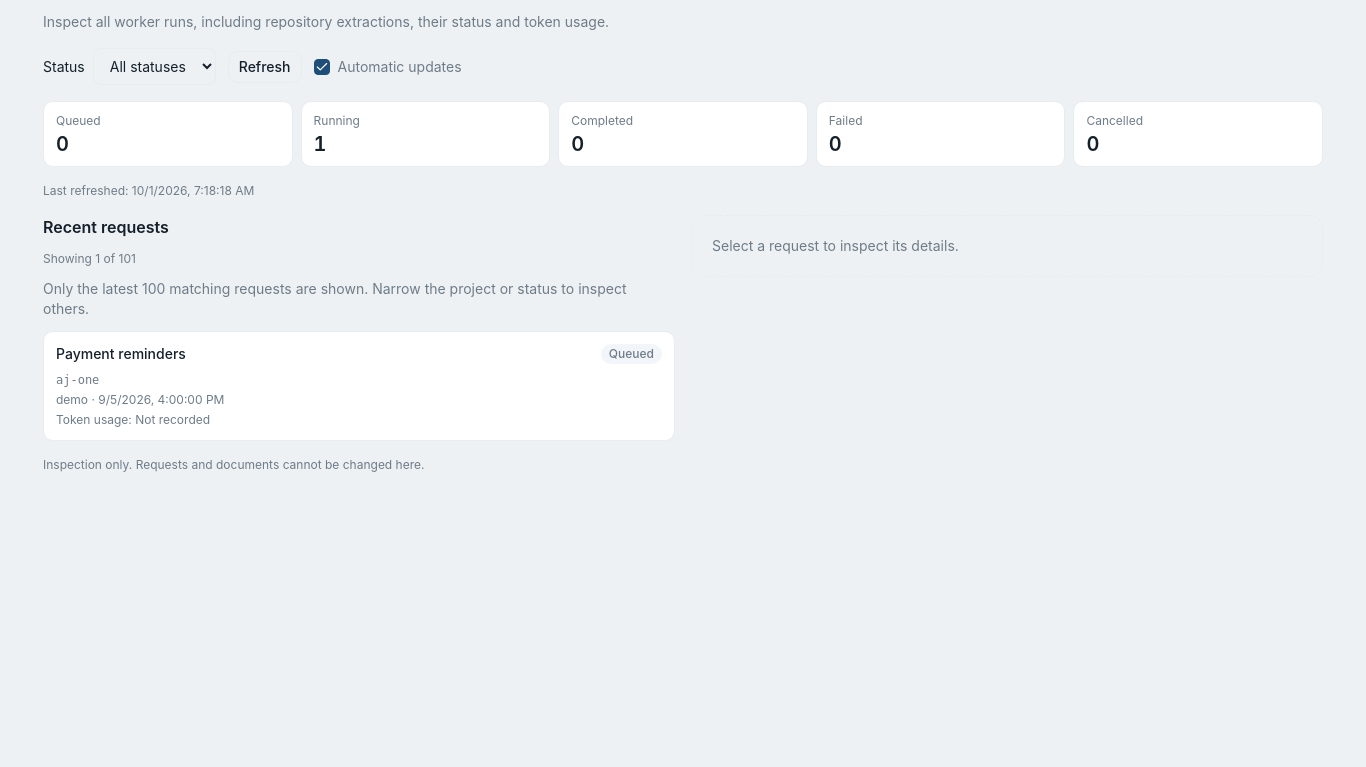
Test: Agent queue inspector › reports truncation and explains a queued request bound to a worker
expect the text "Only the latest 100" is shown: met, box [43,280,626,317]
Click the button "Payment reminders".
click(121, 354)  # box [43,331,675,441]
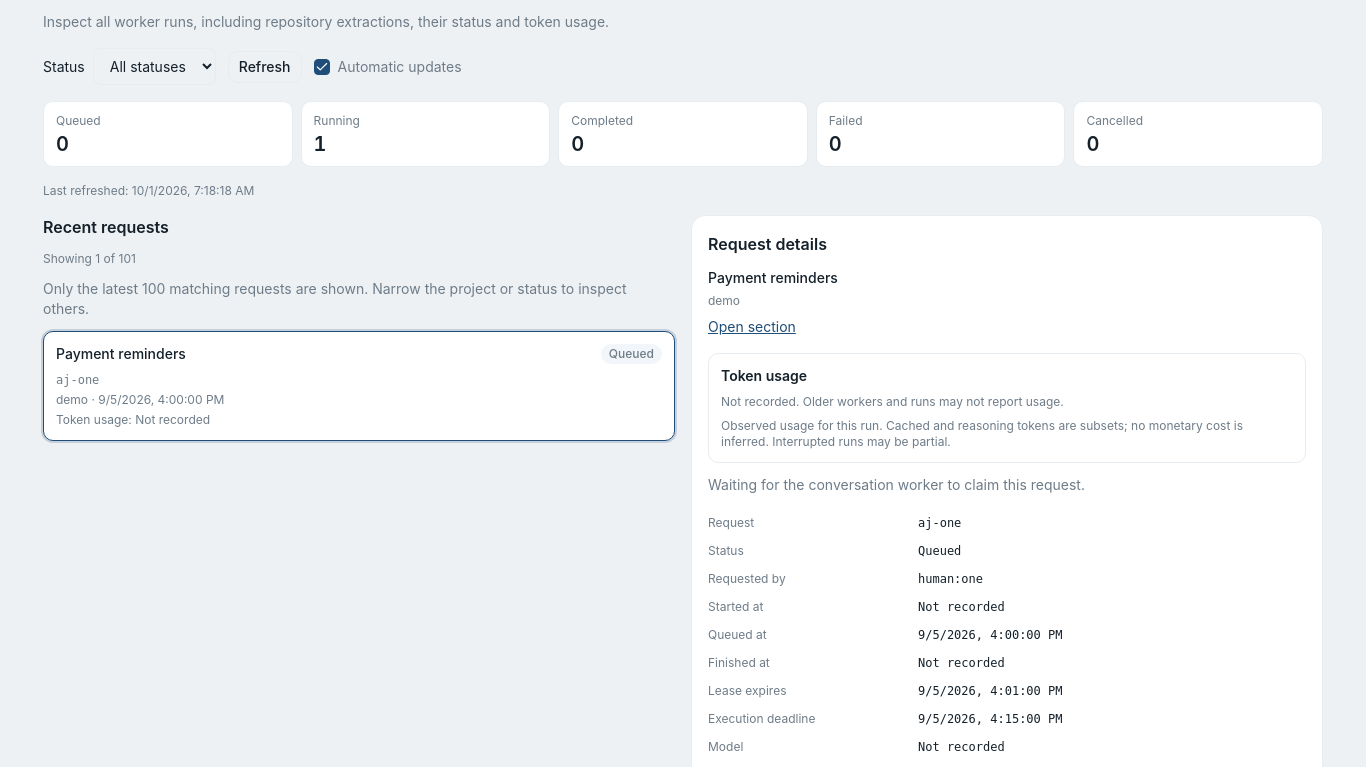
expect the text "Waiting for the conversation worker to claim this request." is shown: met, box [708,476,1085,493]
